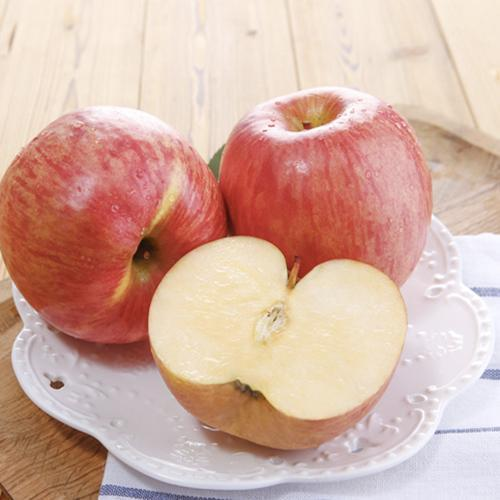apple: (1, 105, 224, 353), (221, 83, 441, 284)
